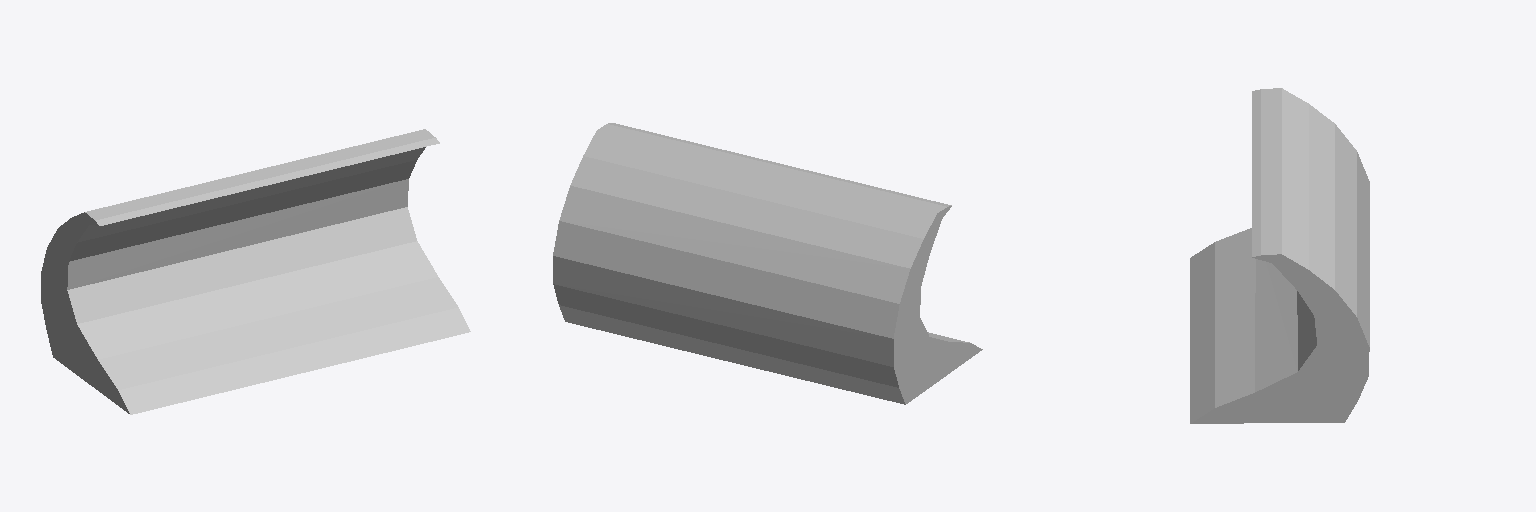
File: kuzira_nami.obj
3 renders of one model, left to right at view 1: azimuth 30°, elevation 25°; view 2: azimuth 150°, elevation 25°; view 3: azimuth 270°, elevation 25°, orthographic.
Parts seen in each view (by area): view 1: pCube1; view 2: pCube1; view 3: pCube1.
Part boxes in pixels (x1,y1,x2,y2): pCube1: (41,129,470,414); pCube1: (553,123,982,404); pCube1: (1190,88,1369,423).
Size of the model in its own units: 4.27 by 2.03 by 1.95.